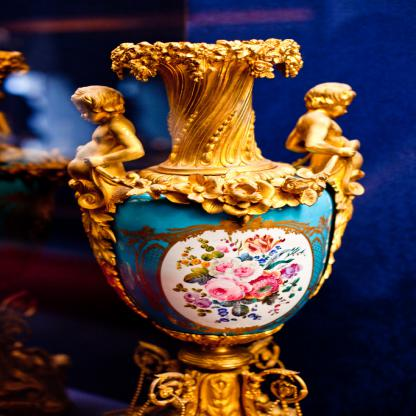vase: (68, 36, 364, 416)
